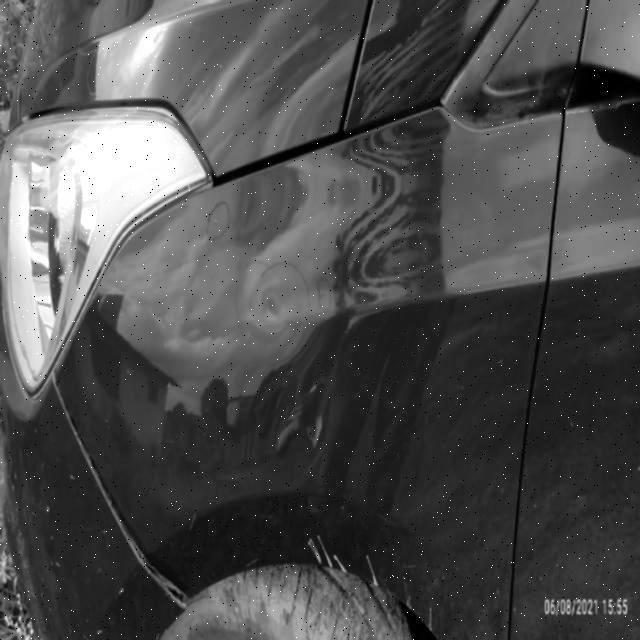fender-dent: (122, 165, 543, 639)
